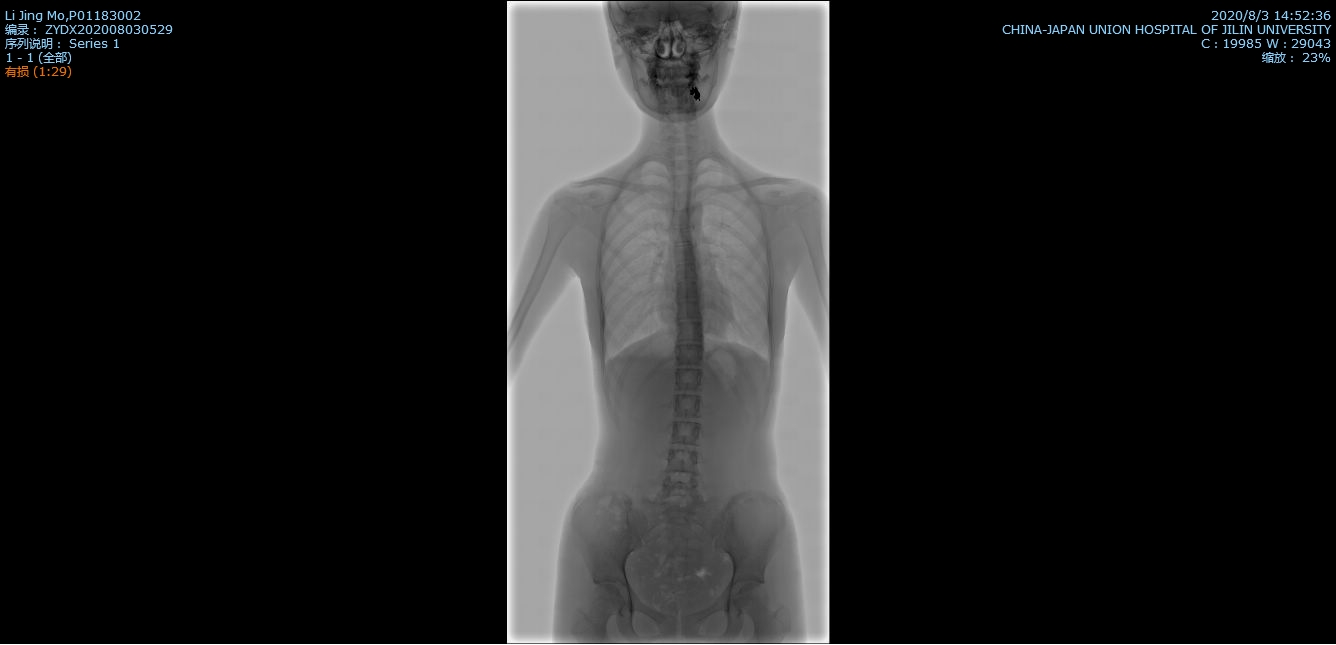Bone: (662, 480, 696, 504), (667, 450, 696, 471), (674, 421, 700, 444), (675, 369, 701, 389), (676, 396, 700, 415), (677, 323, 702, 341), (676, 346, 702, 363), (677, 302, 702, 317), (676, 281, 698, 297), (672, 246, 693, 260), (669, 230, 692, 242), (676, 265, 696, 277), (672, 215, 690, 226)
